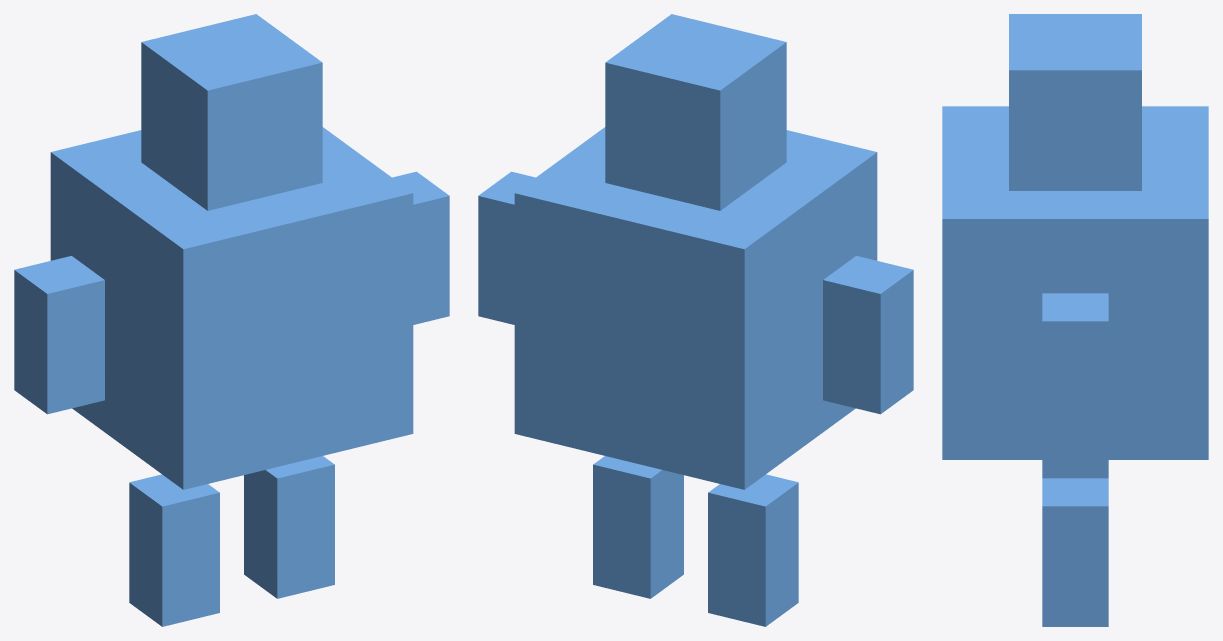
Rendered from game-character-robot.glb.
3 views of the same model, side by side, from view 1: azimuth 30°, elevation 25°; view 2: azimuth 150°, elevation 25°; view 3: azimuth 270°, elevation 25° (orthographic).
Parts seen in each view (by area): view 1: Character_Body; view 2: Character_Body; view 3: Character_Body.
Boxes of the visible parts, left/top/right/bottom form: Character_Body: left=14, top=14, right=449, bottom=626; Character_Body: left=478, top=14, right=913, bottom=626; Character_Body: left=942, top=14, right=1208, bottom=626.
Bounding box in the file's own units: 3.5 × 4.5 × 2.
